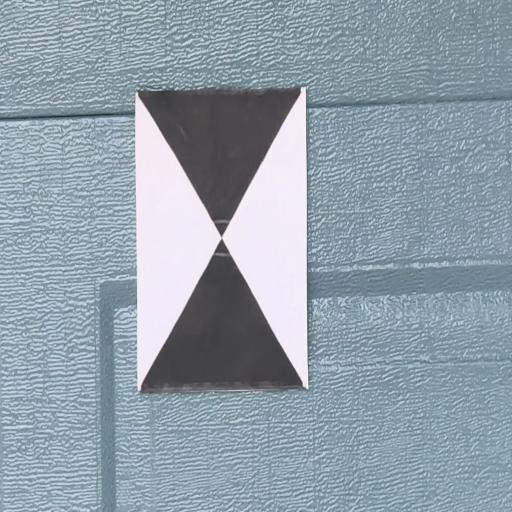target: (134, 91, 308, 390)
